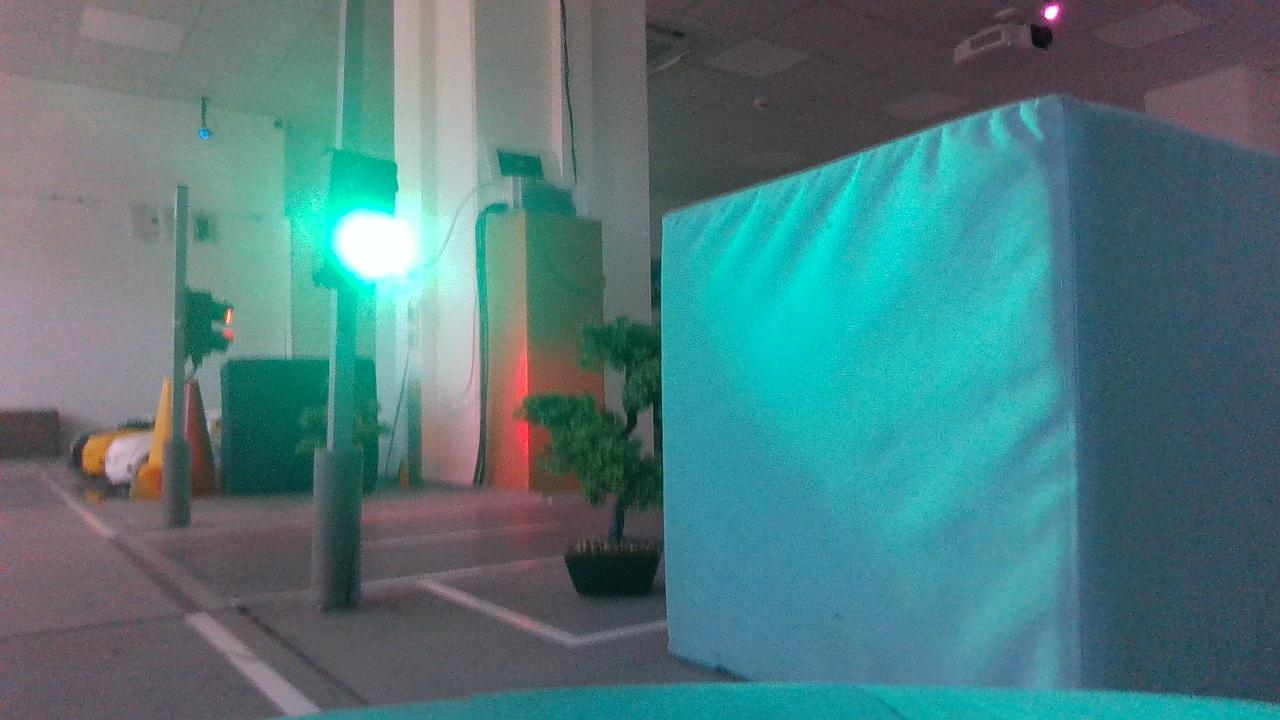traffic_light_green: (286, 132, 429, 308)
